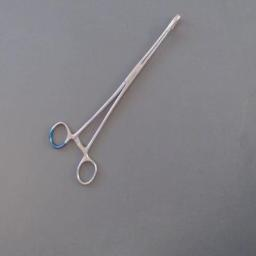Sponge Forceps: (44, 6, 188, 190)
